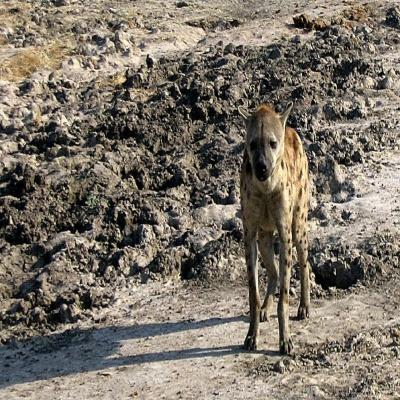hyenas: (226, 74, 369, 391)
